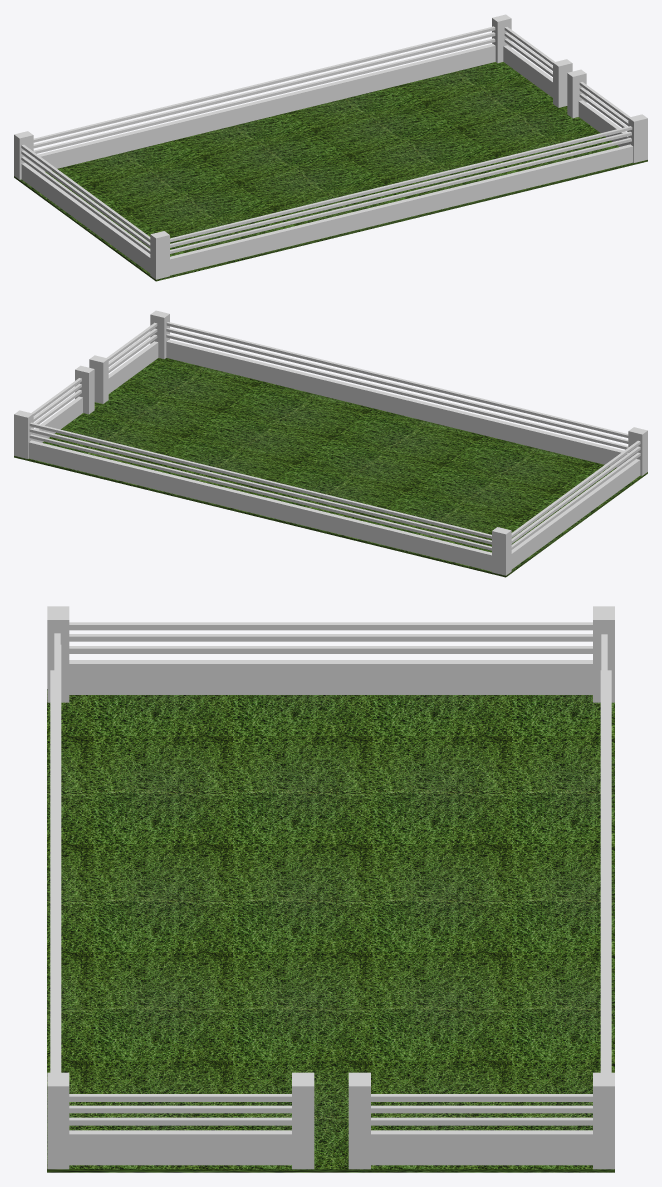
The model's file is park.glb.
The picture shows the model from 3 angles, top to bottom: view 1: azimuth 30°, elevation 25°; view 2: azimuth 150°, elevation 25°; view 3: azimuth 270°, elevation 25°; orthographic projection. The views are drawn at different scales.
Visible parts, largest first — view 1: Cube, Cube.005, Cube.006, Cube.007, Cube.012, Cube.013, Cube.011, Cube.014, Cube.015, Cube.010, Cube.009, Cube.003 (+9 smaller); view 2: Cube, Cube.006, Cube.005, Cube.007, Cube.010, Cube.014, Cube.011, Cube.012, Cube.013, Cube.015, Cube.008, Cube.004 (+9 smaller); view 3: Cube, Cube.007, Cube.008, Cube.009, Cube.016, Cube.017, Cube.018, Cube.013, Cube.012, Cube.006, Cube.002, Cube.025 (+12 smaller).
Part boxes in pixels (x1,y1,x2,y2): Cube: [14, 62, 647, 281]; Cube.005: [170, 144, 633, 275]; Cube.006: [33, 43, 495, 171]; Cube.007: [21, 163, 150, 273]; Cube.012: [33, 26, 495, 142]; Cube.013: [170, 126, 632, 242]; Cube.011: [33, 32, 495, 148]; Cube.014: [170, 131, 631, 247]; Cube.015: [170, 137, 631, 253]; Cube.010: [33, 38, 495, 153]; Cube.009: [503, 45, 552, 97]; Cube.003: [150, 231, 169, 279]; Cube: [14, 358, 647, 577]; Cube.006: [28, 440, 491, 571]; Cube.005: [166, 339, 628, 467]; Cube.007: [511, 459, 640, 569]; Cube.010: [29, 434, 491, 550]; Cube.014: [166, 328, 628, 443]; Cube.011: [29, 428, 491, 544]; Cube.012: [29, 422, 491, 538]; Cube.013: [166, 322, 628, 437]; Cube.015: [166, 334, 628, 449]; Cube.008: [108, 341, 158, 393]; Cube.004: [492, 527, 511, 575]; Cube: [47, 689, 614, 1172]; Cube.007: [69, 660, 592, 694]; Cube.008: [69, 1130, 291, 1165]; Cube.009: [371, 1130, 592, 1165]; Cube.016: [69, 622, 592, 630]; Cube.017: [69, 634, 592, 641]; Cube.018: [69, 646, 592, 653]; Cube.013: [54, 633, 60, 1072]; Cube.012: [601, 634, 607, 1072]; Cube.006: [600, 670, 611, 1072]; Cube.002: [47, 1072, 69, 1169]; Cube.025: [348, 1072, 370, 1169].
Bounding box in the file's own units: 120 × 10.05 × 60.
1 material, 1 textured.
